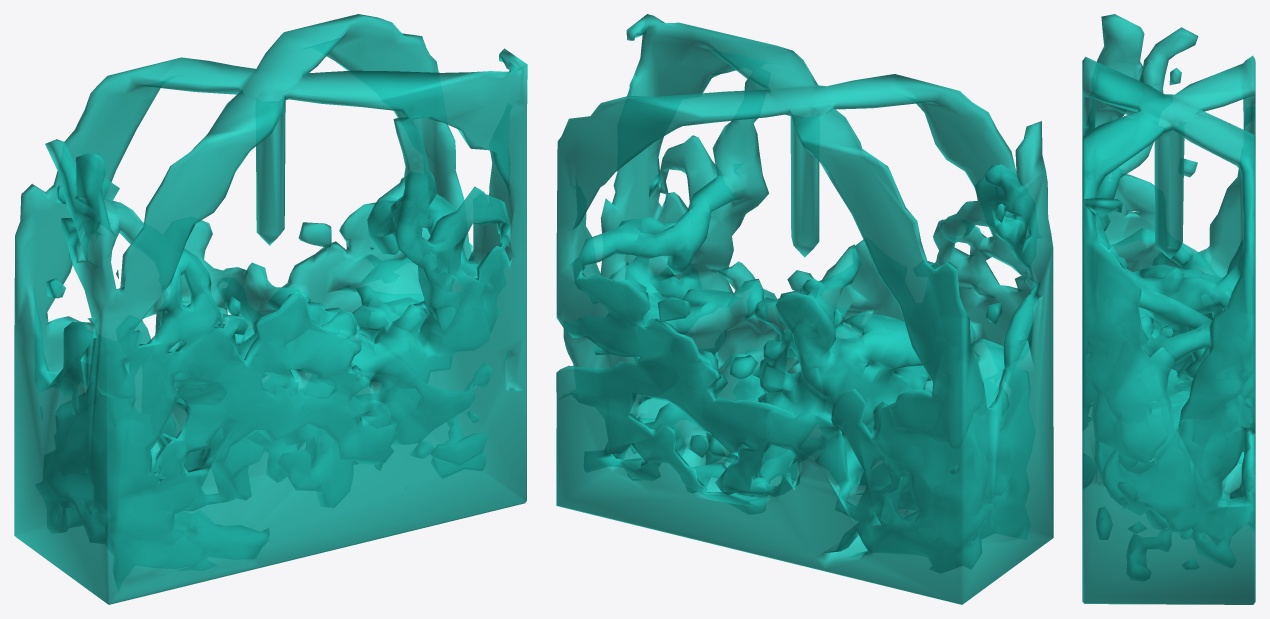
3 views of the same model, side by side, from view 1: azimuth 30°, elevation 25°; view 2: azimuth 150°, elevation 25°; view 3: azimuth 270°, elevation 25° (orthographic). The views are drawn at different scales.
Parts seen in each view (by area): view 1: Liquid_Domain; view 2: Liquid_Domain; view 3: Liquid_Domain.
Boxes of the visible parts, x1,y1,x2,y2 form: Liquid_Domain: [14, 14, 527, 604]; Liquid_Domain: [556, 14, 1053, 604]; Liquid_Domain: [1082, 14, 1255, 604].
Bounding box in the file's own units: 885 × 885 × 345.
